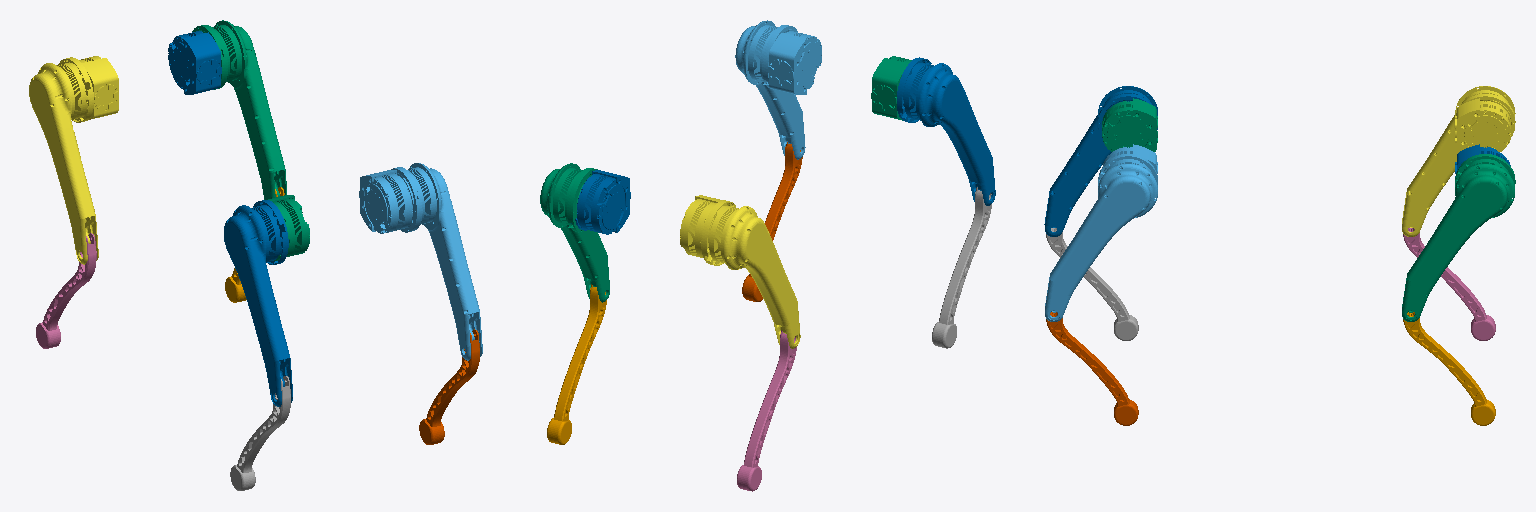
robot.urdf — urdf_assembly:
<?xml version="1.0" ?>
<robot name="urdf_assembly">

<link name="base_link">
  <inertial>
    <origin xyz="-5.5420912303816296e-12 -0.2499999999961581 4.006596938116685e-06" rpy="0 0 0"/>
    <mass value="136.10446748631816"/>
    <inertia ixx="3.173265" iyy="1.230846" izz="4.15009" ixy="-0.000109" iyz="-0.0" ixz="-0.0"/>
  </inertial>
  <visual>
    <origin xyz="0 0 0" rpy="0 0 0"/>
    <geometry>
      <mesh filename="base_link.stl" scale="0.001 0.001 0.001"/>
    </geometry>
    <material name="silver"/>
  </visual>
  <collision>
    <origin xyz="0 0 0" rpy="0 0 0"/>
    <geometry>
      <mesh filename="base_link.stl" scale="0.001 0.001 0.001"/>
    </geometry>
  </collision>
</link>

<link name="thigh_link1_1">
  <inertial>
    <origin xyz="0.04502363244632551 -0.031771091037052335 -0.04857715639714248" rpy="0 0 0"/>
    <mass value="3.0252112588973517"/>
    <inertia ixx="0.029988" iyy="0.022358" izz="0.012123" ixy="0.002029" iyz="-0.011632" ixz="0.003098"/>
  </inertial>
  <visual>
    <origin xyz="-0.1374 0.611 -4e-06" rpy="0 0 0"/>
    <geometry>
      <mesh filename="thigh_link1_1.stl" scale="0.001 0.001 0.001"/>
    </geometry>
    <material name="silver"/>
  </visual>
  <collision>
    <origin xyz="-0.1374 0.611 -4e-06" rpy="0 0 0"/>
    <geometry>
      <mesh filename="thigh_link1_1.stl" scale="0.001 0.001 0.001"/>
    </geometry>
  </collision>
</link>

<link name="thigh_link2_1">
  <inertial>
    <origin xyz="0.0450236324463249 -0.03177109103705182 -0.048577156397139505" rpy="0 0 0"/>
    <mass value="3.0252112588973517"/>
    <inertia ixx="0.029988" iyy="0.022358" izz="0.012123" ixy="0.002029" iyz="-0.011632" ixz="0.003098"/>
  </inertial>
  <visual>
    <origin xyz="-0.1374 -0.111 -4e-06" rpy="0 0 0"/>
    <geometry>
      <mesh filename="thigh_link2_1.stl" scale="0.001 0.001 0.001"/>
    </geometry>
    <material name="silver"/>
  </visual>
  <collision>
    <origin xyz="-0.1374 -0.111 -4e-06" rpy="0 0 0"/>
    <geometry>
      <mesh filename="thigh_link2_1.stl" scale="0.001 0.001 0.001"/>
    </geometry>
  </collision>
</link>

<link name="thigh_link4_1">
  <inertial>
    <origin xyz="-0.04502353377718382 -0.031770941187219987 -0.048576836839344904" rpy="0 0 0"/>
    <mass value="3.0252338652511552"/>
    <inertia ixx="0.029988" iyy="0.022358" izz="0.012123" ixy="-0.002029" iyz="-0.011632" ixz="-0.003098"/>
  </inertial>
  <visual>
    <origin xyz="0.1374 -0.111 -4e-06" rpy="0 0 0"/>
    <geometry>
      <mesh filename="thigh_link4_1.stl" scale="0.001 0.001 0.001"/>
    </geometry>
    <material name="silver"/>
  </visual>
  <collision>
    <origin xyz="0.1374 -0.111 -4e-06" rpy="0 0 0"/>
    <geometry>
      <mesh filename="thigh_link4_1.stl" scale="0.001 0.001 0.001"/>
    </geometry>
  </collision>
</link>

<link name="thigh_link3_1">
  <inertial>
    <origin xyz="-0.04502353377718435 -0.03177094118722101 -0.048576836839350726" rpy="0 0 0"/>
    <mass value="3.0252338652511552"/>
    <inertia ixx="0.029988" iyy="0.022358" izz="0.012123" ixy="-0.002029" iyz="-0.011632" ixz="-0.003098"/>
  </inertial>
  <visual>
    <origin xyz="0.1374 0.611 -4e-06" rpy="0 0 0"/>
    <geometry>
      <mesh filename="thigh_link3_1.stl" scale="0.001 0.001 0.001"/>
    </geometry>
    <material name="silver"/>
  </visual>
  <collision>
    <origin xyz="0.1374 0.611 -4e-06" rpy="0 0 0"/>
    <geometry>
      <mesh filename="thigh_link3_1.stl" scale="0.001 0.001 0.001"/>
    </geometry>
  </collision>
</link>

<link name="calf_link1_1">
  <inertial>
    <origin xyz="0.010992318900231252 0.08674844955210803 -0.13426644342648236" rpy="0 0 0"/>
    <mass value="1.2550937841787286"/>
    <inertia ixx="0.013917" iyy="0.009421" izz="0.00461" ixy="-1e-06" iyz="0.006339" ixz="2e-06"/>
  </inertial>
  <visual>
    <origin xyz="-0.1915 0.761 0.259804" rpy="0 0 0"/>
    <geometry>
      <mesh filename="calf_link1_1.stl" scale="0.001 0.001 0.001"/>
    </geometry>
    <material name="silver"/>
  </visual>
  <collision>
    <origin xyz="-0.1915 0.761 0.259804" rpy="0 0 0"/>
    <geometry>
      <mesh filename="calf_link1_1.stl" scale="0.001 0.001 0.001"/>
    </geometry>
  </collision>
</link>

<link name="calf_link4_1">
  <inertial>
    <origin xyz="-0.01099232401480943 0.0867484214836569 -0.13426639809513202" rpy="0 0 0"/>
    <mass value="1.2550931987600233"/>
    <inertia ixx="0.013917" iyy="0.009421" izz="0.00461" ixy="1e-06" iyz="0.006339" ixz="-2e-06"/>
  </inertial>
  <visual>
    <origin xyz="0.1915 0.039 0.259804" rpy="0 0 0"/>
    <geometry>
      <mesh filename="calf_link4_1.stl" scale="0.001 0.001 0.001"/>
    </geometry>
    <material name="silver"/>
  </visual>
  <collision>
    <origin xyz="0.1915 0.039 0.259804" rpy="0 0 0"/>
    <geometry>
      <mesh filename="calf_link4_1.stl" scale="0.001 0.001 0.001"/>
    </geometry>
  </collision>
</link>

<link name="calf_link3_1">
  <inertial>
    <origin xyz="-0.0109923240148104 0.08674842148365602 -0.13426639809513813" rpy="0 0 0"/>
    <mass value="1.2550931987600233"/>
    <inertia ixx="0.013917" iyy="0.009421" izz="0.00461" ixy="1e-06" iyz="0.006339" ixz="-2e-06"/>
  </inertial>
  <visual>
    <origin xyz="0.1915 0.761 0.259804" rpy="0 0 0"/>
    <geometry>
      <mesh filename="calf_link3_1.stl" scale="0.001 0.001 0.001"/>
    </geometry>
    <material name="silver"/>
  </visual>
  <collision>
    <origin xyz="0.1915 0.761 0.259804" rpy="0 0 0"/>
    <geometry>
      <mesh filename="calf_link3_1.stl" scale="0.001 0.001 0.001"/>
    </geometry>
  </collision>
</link>

<link name="calf_link2_1">
  <inertial>
    <origin xyz="-0.011007681099768907 0.08674844955210859 -0.13426644342647914" rpy="0 0 0"/>
    <mass value="1.2550937841787286"/>
    <inertia ixx="0.013917" iyy="0.009421" izz="0.00461" ixy="-1e-06" iyz="0.006339" ixz="2e-06"/>
  </inertial>
  <visual>
    <origin xyz="-0.2139 0.039 0.259804" rpy="0 0 0"/>
    <geometry>
      <mesh filename="calf_link2_1.stl" scale="0.001 0.001 0.001"/>
    </geometry>
    <material name="silver"/>
  </visual>
  <collision>
    <origin xyz="-0.2139 0.039 0.259804" rpy="0 0 0"/>
    <geometry>
      <mesh filename="calf_link2_1.stl" scale="0.001 0.001 0.001"/>
    </geometry>
  </collision>
</link>

<link name="hip_abduction4_1">
  <inertial>
    <origin xyz="0.00043093322878925977 -0.04434611080961226 0.0009329537797818719" rpy="0 0 0"/>
    <mass value="1.48740161574237"/>
    <inertia ixx="0.003079" iyy="0.002006" izz="0.002141" ixy="4.7e-05" iyz="0.000112" ixz="-3.8e-05"/>
  </inertial>
  <visual>
    <origin xyz="-0.11 0.553 -4e-06" rpy="0 0 0"/>
    <geometry>
      <mesh filename="hip_abduction4_1.stl" scale="0.001 0.001 0.001"/>
    </geometry>
    <material name="silver"/>
  </visual>
  <collision>
    <origin xyz="-0.11 0.553 -4e-06" rpy="0 0 0"/>
    <geometry>
      <mesh filename="hip_abduction4_1.stl" scale="0.001 0.001 0.001"/>
    </geometry>
  </collision>
</link>

<link name="hip_abduction3_1">
  <inertial>
    <origin xyz="-0.0004309332275171107 -0.044346110809612815 -0.0009327377798869816" rpy="0 0 0"/>
    <mass value="1.48740161574237"/>
    <inertia ixx="0.003079" iyy="0.002006" izz="0.002141" ixy="-4.7e-05" iyz="-0.000112" ixz="-3.8e-05"/>
  </inertial>
  <visual>
    <origin xyz="0.11 0.553 -4e-06" rpy="0 0 0"/>
    <geometry>
      <mesh filename="hip_abduction3_1.stl" scale="0.001 0.001 0.001"/>
    </geometry>
    <material name="silver"/>
  </visual>
  <collision>
    <origin xyz="0.11 0.553 -4e-06" rpy="0 0 0"/>
    <geometry>
      <mesh filename="hip_abduction3_1.stl" scale="0.001 0.001 0.001"/>
    </geometry>
  </collision>
</link>

<link name="hip_abduction2_1">
  <inertial>
    <origin xyz="-0.0004309332275169997 0.044346110809611906 0.000932953779785668" rpy="0 0 0"/>
    <mass value="1.48740161574237"/>
    <inertia ixx="0.003079" iyy="0.002006" izz="0.002141" ixy="4.7e-05" iyz="-0.000112" ixz="3.8e-05"/>
  </inertial>
  <visual>
    <origin xyz="0.11 -0.053 -4e-06" rpy="0 0 0"/>
    <geometry>
      <mesh filename="hip_abduction2_1.stl" scale="0.001 0.001 0.001"/>
    </geometry>
    <material name="silver"/>
  </visual>
  <collision>
    <origin xyz="0.11 -0.053 -4e-06" rpy="0 0 0"/>
    <geometry>
      <mesh filename="hip_abduction2_1.stl" scale="0.001 0.001 0.001"/>
    </geometry>
  </collision>
</link>

<link name="hip_abduction_1">
  <inertial>
    <origin xyz="0.00043093322878921814 0.04434611080961184 -0.000932737779882685" rpy="0 0 0"/>
    <mass value="1.48740161574237"/>
    <inertia ixx="0.003079" iyy="0.002006" izz="0.002141" ixy="-4.7e-05" iyz="0.000112" ixz="3.8e-05"/>
  </inertial>
  <visual>
    <origin xyz="-0.11 -0.053 -4e-06" rpy="0 0 0"/>
    <geometry>
      <mesh filename="hip_abduction_1.stl" scale="0.001 0.001 0.001"/>
    </geometry>
    <material name="silver"/>
  </visual>
  <collision>
    <origin xyz="-0.11 -0.053 -4e-06" rpy="0 0 0"/>
    <geometry>
      <mesh filename="hip_abduction_1.stl" scale="0.001 0.001 0.001"/>
    </geometry>
  </collision>
</link>

<joint name="Revolute_1" type="continuous">
  <origin xyz="0.0274 -0.058 0.0" rpy="0 0 0"/>
  <parent link="hip_abduction4_1"/>
  <child link="thigh_link1_1"/>
  <axis xyz="1.0 -0.0 0.0"/>
</joint>

<joint name="Revolute_2" type="continuous">
  <origin xyz="0.0274 0.058 0.0" rpy="0 0 0"/>
  <parent link="hip_abduction_1"/>
  <child link="thigh_link2_1"/>
  <axis xyz="1.0 -0.0 0.0"/>
</joint>

<joint name="Revolute_3" type="continuous">
  <origin xyz="-0.0274 0.058 0.0" rpy="0 0 0"/>
  <parent link="hip_abduction2_1"/>
  <child link="thigh_link4_1"/>
  <axis xyz="-1.0 0.0 -0.0"/>
</joint>

<joint name="Revolute_4" type="continuous">
  <origin xyz="-0.0274 -0.058 0.0" rpy="0 0 0"/>
  <parent link="hip_abduction3_1"/>
  <child link="thigh_link3_1"/>
  <axis xyz="-1.0 0.0 -0.0"/>
</joint>

<joint name="Revolute_5" type="continuous">
  <origin xyz="0.0541 -0.15 -0.259808" rpy="0 0 0"/>
  <parent link="thigh_link1_1"/>
  <child link="calf_link1_1"/>
  <axis xyz="1.0 0.0 -0.0"/>
</joint>

<joint name="Revolute_6" type="continuous">
  <origin xyz="-0.0541 -0.15 -0.259808" rpy="0 0 0"/>
  <parent link="thigh_link4_1"/>
  <child link="calf_link4_1"/>
  <axis xyz="1.0 -0.0 0.0"/>
</joint>

<joint name="Revolute_7" type="continuous">
  <origin xyz="-0.0541 -0.15 -0.259808" rpy="0 0 0"/>
  <parent link="thigh_link3_1"/>
  <child link="calf_link3_1"/>
  <axis xyz="1.0 -0.0 0.0"/>
</joint>

<joint name="Revolute_8" type="continuous">
  <origin xyz="0.0765 -0.15 -0.259808" rpy="0 0 0"/>
  <parent link="thigh_link2_1"/>
  <child link="calf_link2_1"/>
  <axis xyz="-1.0 -0.0 -0.0"/>
</joint>

<joint name="Revolute_9" type="continuous">
  <origin xyz="0.11 -0.553 4e-06" rpy="0 0 0"/>
  <parent link="base_link"/>
  <child link="hip_abduction4_1"/>
  <axis xyz="-0.0 -1.0 -0.0"/>
</joint>

<joint name="Revolute_10" type="continuous">
  <origin xyz="-0.11 -0.553 4e-06" rpy="0 0 0"/>
  <parent link="base_link"/>
  <child link="hip_abduction3_1"/>
  <axis xyz="-0.0 -1.0 -0.0"/>
</joint>

<joint name="Revolute_11" type="continuous">
  <origin xyz="-0.11 0.053 4e-06" rpy="0 0 0"/>
  <parent link="base_link"/>
  <child link="hip_abduction2_1"/>
  <axis xyz="0.0 1.0 0.0"/>
</joint>

<joint name="Revolute_12" type="continuous">
  <origin xyz="0.11 0.053 4e-06" rpy="0 0 0"/>
  <parent link="base_link"/>
  <child link="hip_abduction_1"/>
  <axis xyz="0.0 1.0 0.0"/>
</joint>

</robot>

--- Facts derived from the render (not from the file) ---
3 views of the same robot in one strip: view 1: azimuth 30°, elevation 25°; view 2: azimuth 150°, elevation 25°; view 3: azimuth 270°, elevation 25° (orthographic).
Model urdf_assembly with 13 links and 12 joints (12 continuous), rooted at base_link, posed every joint at zero.
Links seen in each view (by area): view 1: thigh_link4_1, thigh_link3_1, thigh_link1_1, thigh_link2_1, hip_abduction4_1, hip_abduction_1, calf_link3_1, calf_link4_1, calf_link1_1, hip_abduction2_1, hip_abduction3_1; view 2: thigh_link3_1, thigh_link4_1, thigh_link2_1, thigh_link1_1, hip_abduction_1, hip_abduction4_1, calf_link3_1, calf_link2_1, calf_link4_1, calf_link1_1, hip_abduction3_1, hip_abduction2_1; view 3: thigh_link2_1, thigh_link1_1, thigh_link3_1, thigh_link4_1, hip_abduction2_1, hip_abduction3_1, calf_link2_1, calf_link1_1, calf_link4_1, calf_link3_1.
Boxes of the visible links, left/top/right/bottom form: thigh_link4_1: left=29, top=57, right=98, bottom=264; thigh_link3_1: left=224, top=200, right=292, bottom=406; thigh_link1_1: left=391, top=163, right=482, bottom=360; thigh_link2_1: left=192, top=20, right=286, bottom=199; hip_abduction4_1: left=359, top=170, right=418, bottom=233; hip_abduction_1: left=168, top=31, right=221, bottom=94; calf_link3_1: left=230, top=376, right=290, bottom=490; calf_link4_1: left=36, top=233, right=96, bottom=348; calf_link1_1: left=419, top=329, right=479, bottom=444; hip_abduction2_1: left=63, top=56, right=118, bottom=119; hip_abduction3_1: left=268, top=195, right=309, bottom=260; thigh_link3_1: left=897, top=57, right=995, bottom=205; thigh_link4_1: left=701, top=200, right=800, bottom=348; thigh_link2_1: left=540, top=163, right=609, bottom=302; thigh_link1_1: left=735, top=20, right=805, bottom=159; hip_abduction_1: left=571, top=170, right=630, bottom=234; hip_abduction4_1: left=768, top=29, right=821, bottom=94; calf_link3_1: left=932, top=187, right=991, bottom=348; calf_link2_1: left=547, top=284, right=606, bottom=444; calf_link4_1: left=737, top=330, right=796, bottom=491; calf_link1_1: left=742, top=142, right=802, bottom=301; hip_abduction3_1: left=871, top=56, right=911, bottom=120; hip_abduction2_1: left=680, top=195, right=721, bottom=257; thigh_link2_1: left=1402, top=154, right=1515, bottom=321; thigh_link1_1: left=1045, top=154, right=1157, bottom=321; thigh_link3_1: left=1044, top=86, right=1157, bottom=236; thigh_link4_1: left=1402, top=86, right=1515, bottom=236; hip_abduction2_1: left=1455, top=98, right=1510, bottom=151; hip_abduction3_1: left=1102, top=98, right=1157, bottom=151; calf_link2_1: left=1403, top=312, right=1495, bottom=425; calf_link1_1: left=1046, top=312, right=1138, bottom=425; calf_link4_1: left=1403, top=228, right=1495, bottom=340; calf_link3_1: left=1046, top=228, right=1138, bottom=340.
Bounding box of the posed robot: 0.4402 × 0.9523 × 0.5715 m (x, y, z).
12 mesh visuals loaded from 13 distinct referenced files (12 binary STL); not drawn: 1 (reference not matched to a file when rendering).
